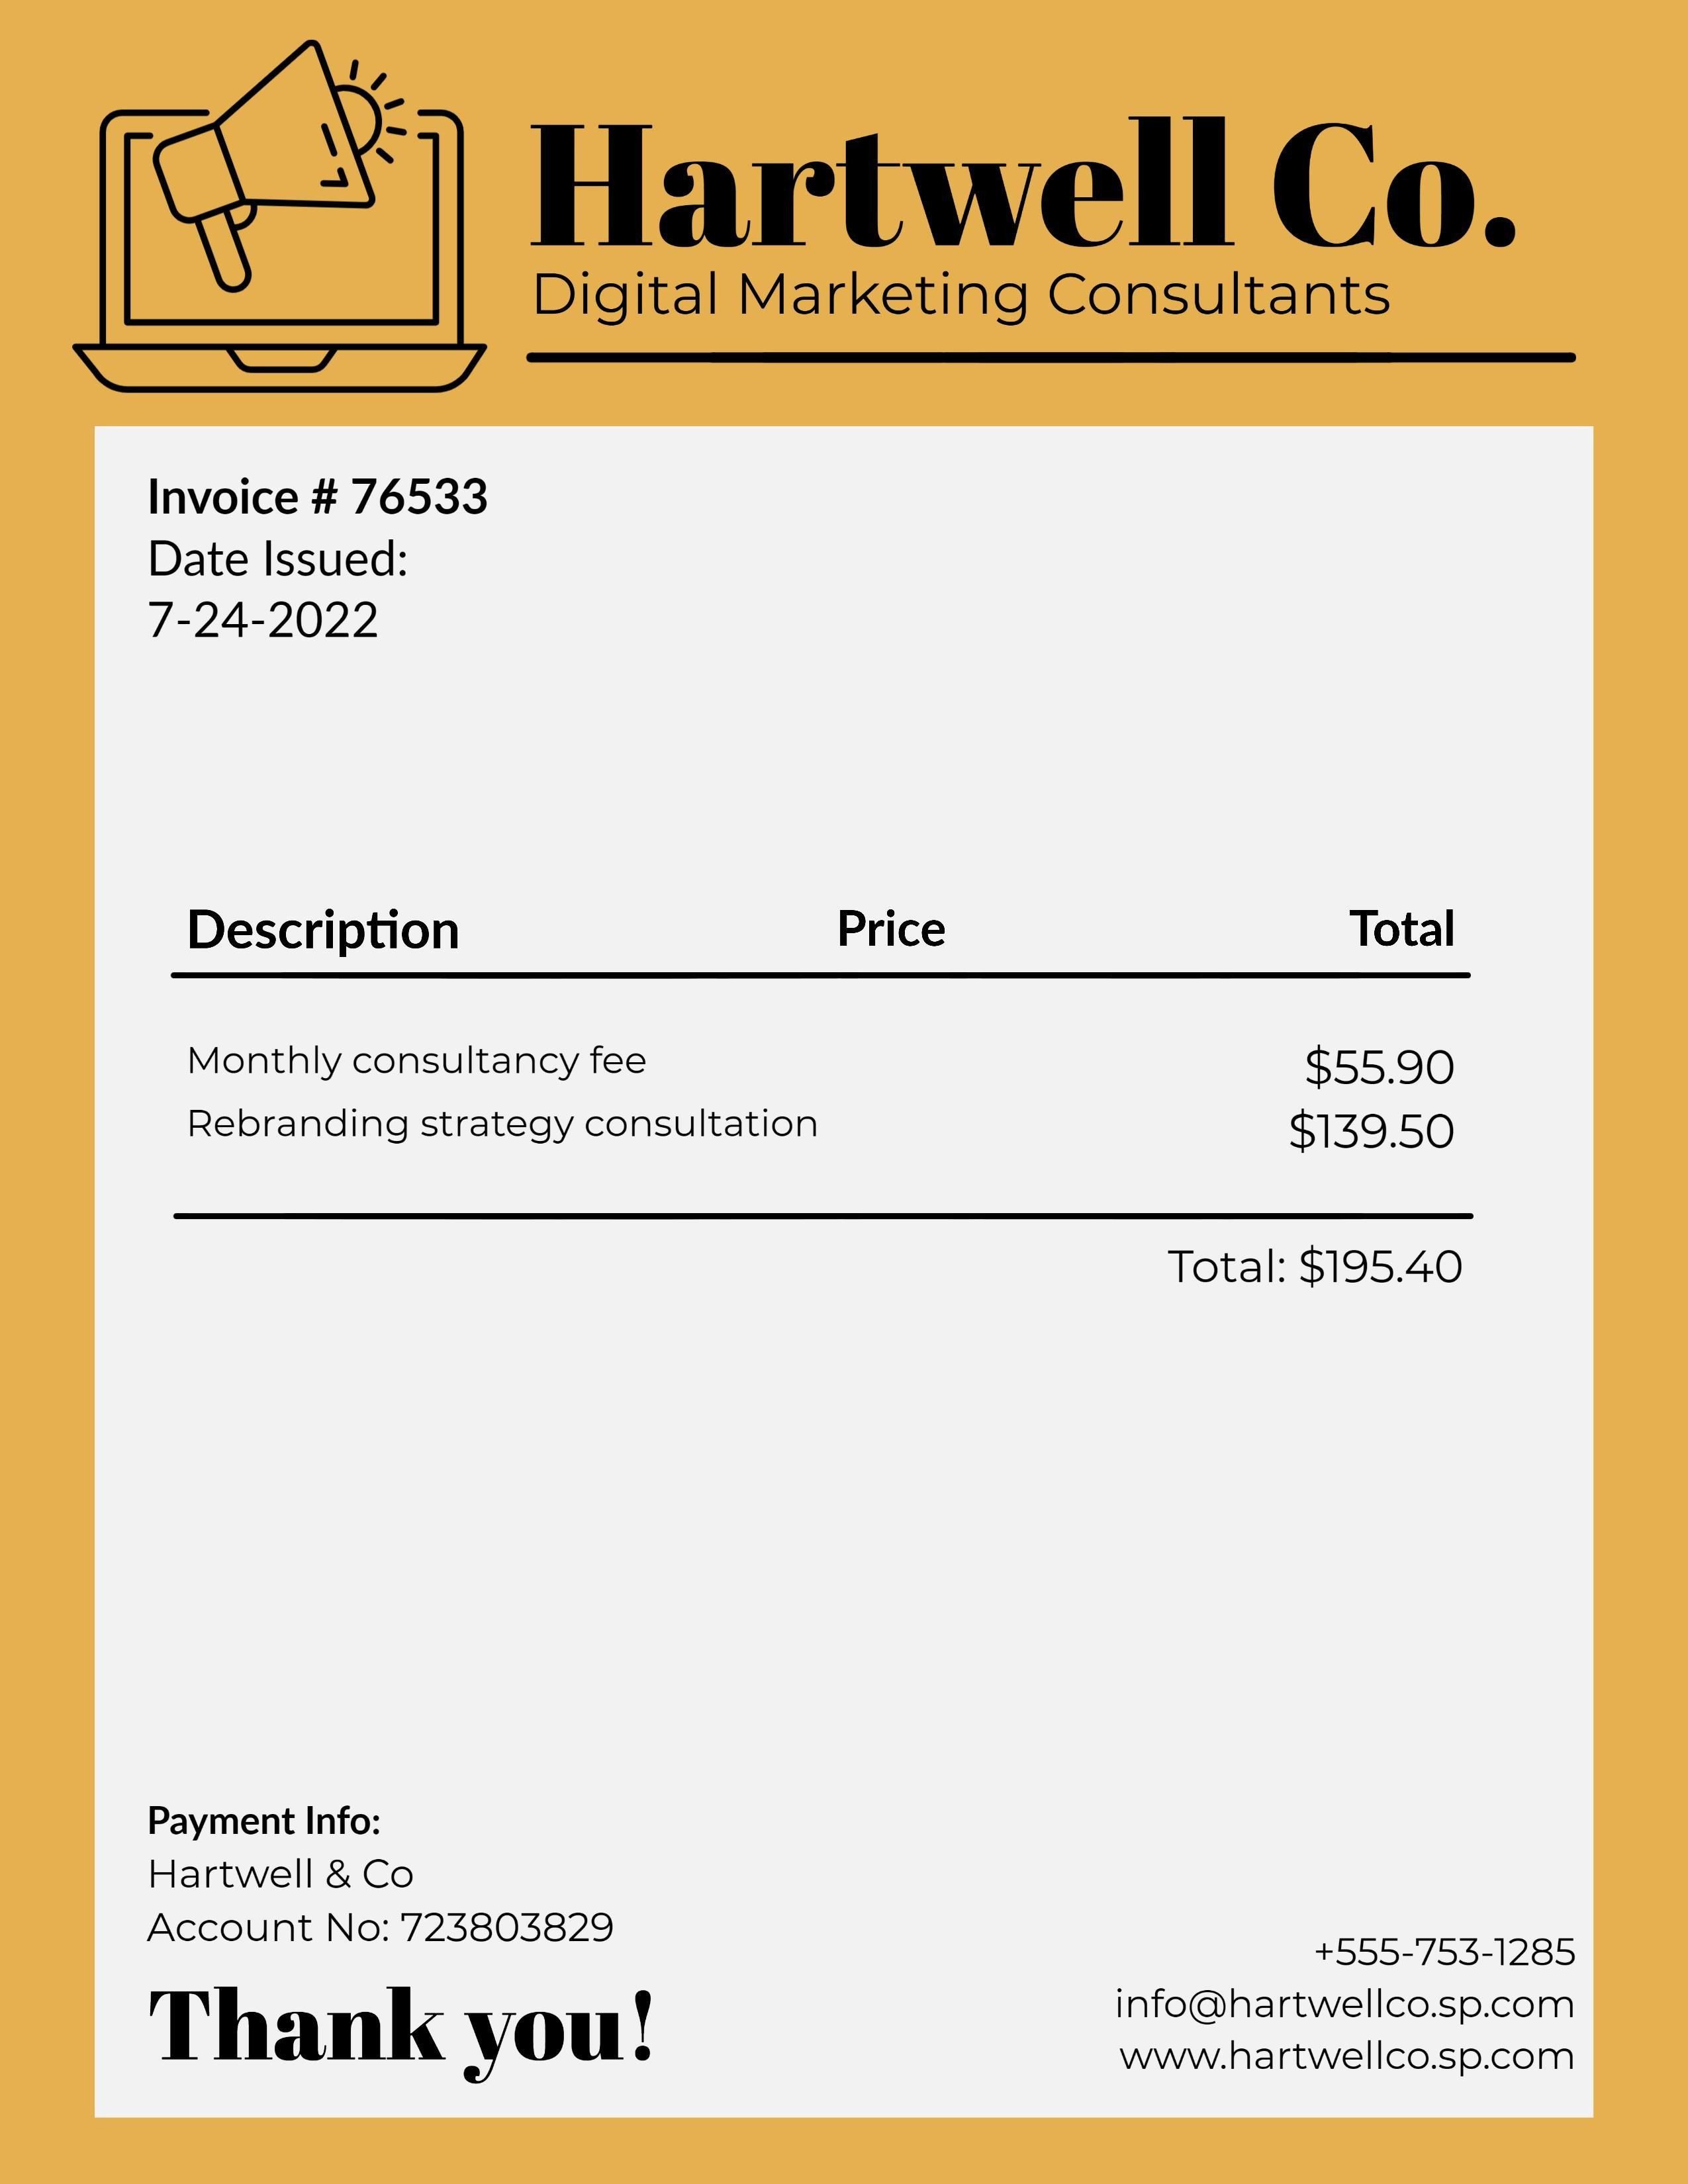ROI: (165, 897, 1479, 1218), (511, 108, 1573, 342), (128, 1780, 665, 1955), (128, 456, 551, 672), (1147, 1228, 1481, 1301)
